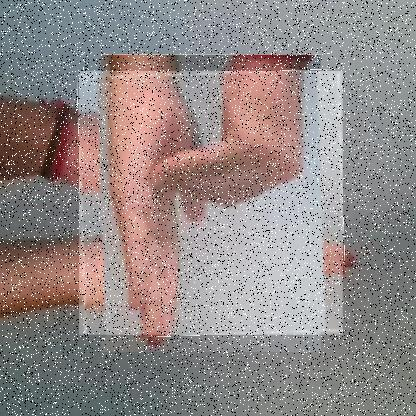Z: (79, 71, 344, 336)
